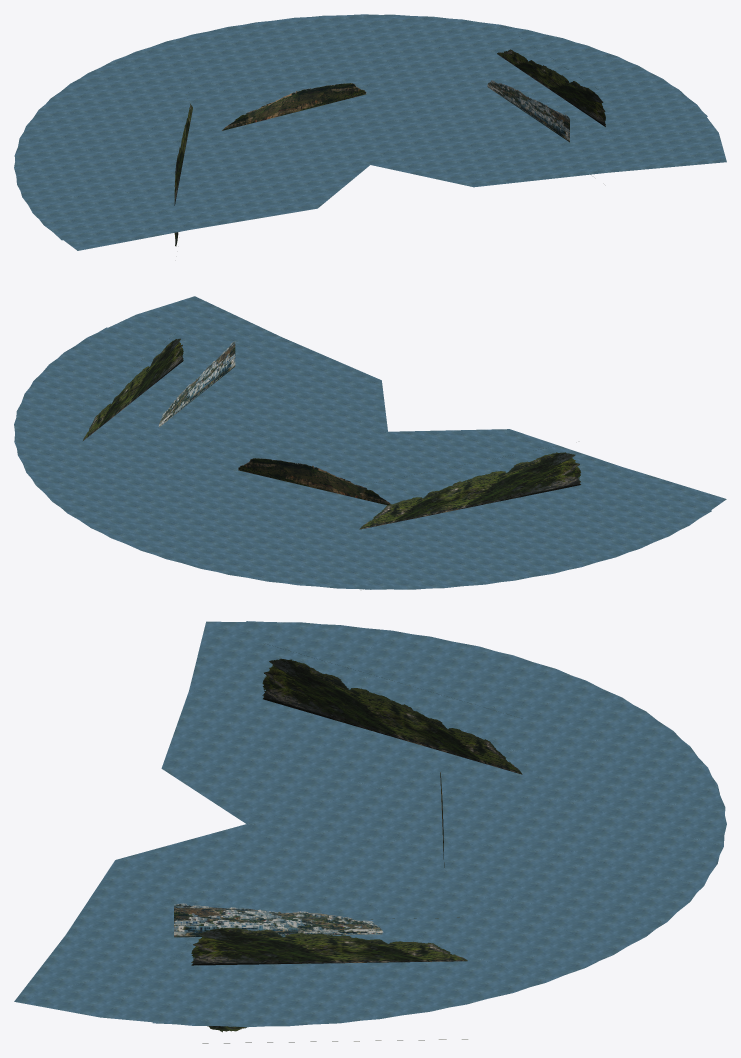
The model's file is Ocean.FBX.
3 renders of one model, top to bottom at view 1: azimuth 30°, elevation 25°; view 2: azimuth 150°, elevation 25°; view 3: azimuth 270°, elevation 25°, orthographic. The views are drawn at different scales.
Visible parts, largest first — view 1: Ocean, DistantMatte_03, DistantMatte_05, DistantMatte_07, DistantMatte_01; view 2: Ocean, DistantMatte_01, DistantMatte_03, DistantMatte_05, DistantMatte_07; view 3: Ocean, DistantMatte_01, DistantMatte_05, DistantMatte_07.
Part boxes in pixels (x1,y1,x2,y2): Ocean: [14, 14, 726, 250]; DistantMatte_03: [222, 83, 366, 130]; DistantMatte_05: [497, 49, 605, 126]; DistantMatte_07: [487, 80, 569, 142]; DistantMatte_01: [174, 103, 192, 205]; Ocean: [14, 296, 726, 589]; DistantMatte_01: [359, 452, 580, 529]; DistantMatte_03: [238, 458, 390, 505]; DistantMatte_05: [83, 338, 183, 440]; DistantMatte_07: [159, 341, 235, 427]; Ocean: [14, 621, 726, 1027]; DistantMatte_01: [262, 658, 522, 774]; DistantMatte_05: [191, 917, 467, 965]; DistantMatte_07: [174, 903, 383, 937].
Size of the model in its own units: 913 by 151 by 677.
